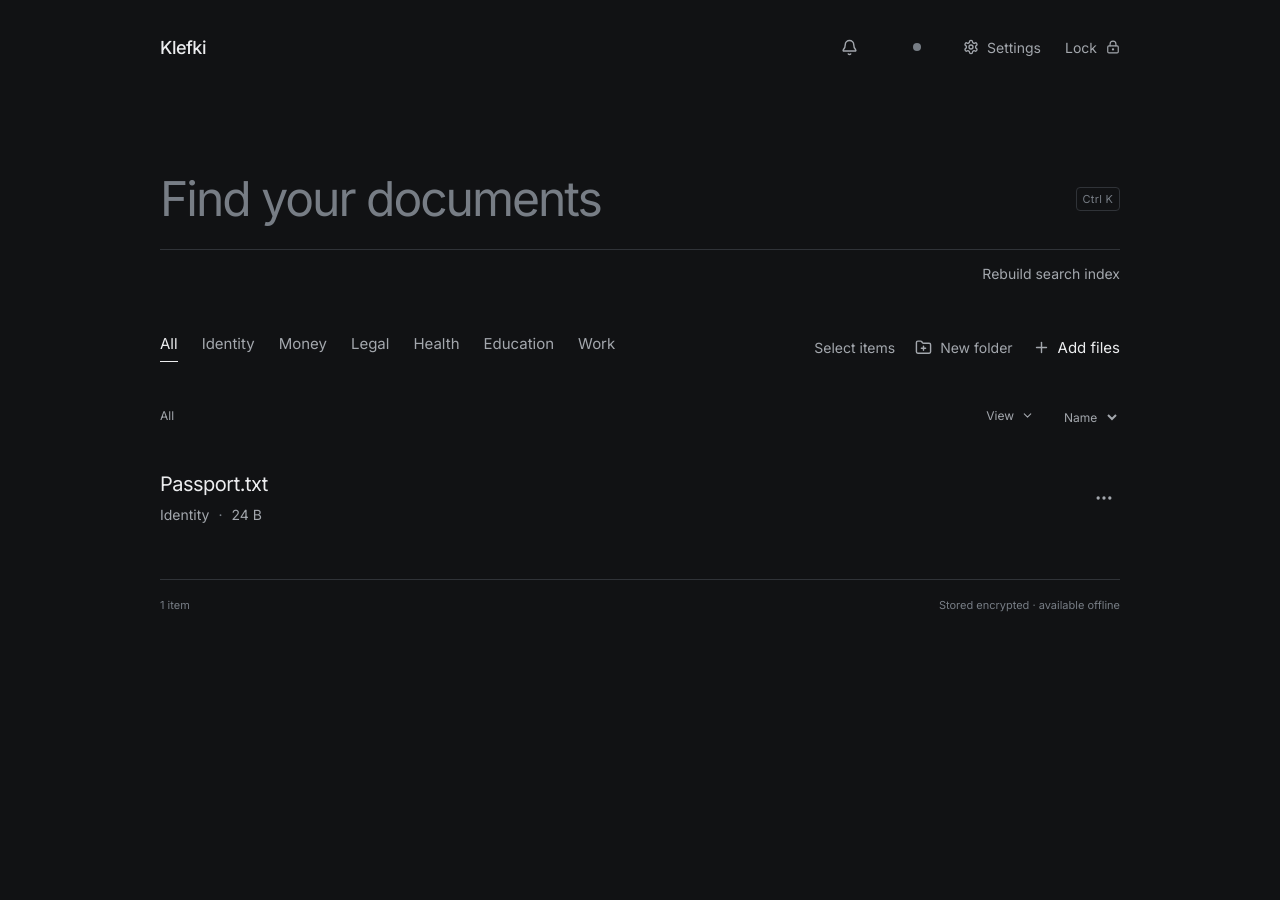
Test: library › opens accessible details with prefilled fields
Expected: the text "Passport.txt" is shown, [160,469,268,499]
Click the button named "Actions for Passport.txt" at {"x": 1104, "y": 498}, box [1088,482,1120,514]
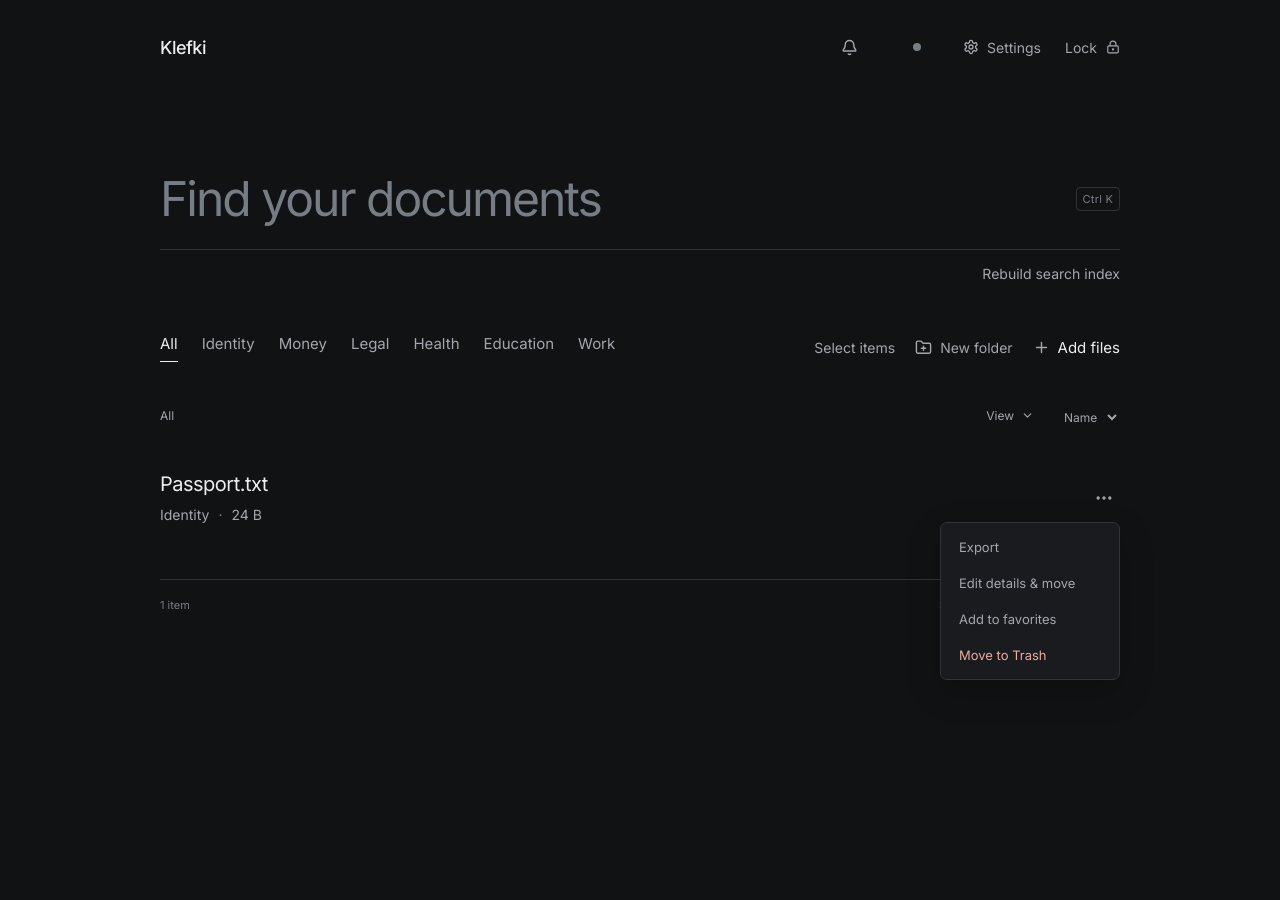
Click the menu item "Edit details & move" at {"x": 1017, "y": 583}, box [959,575,1075,591]
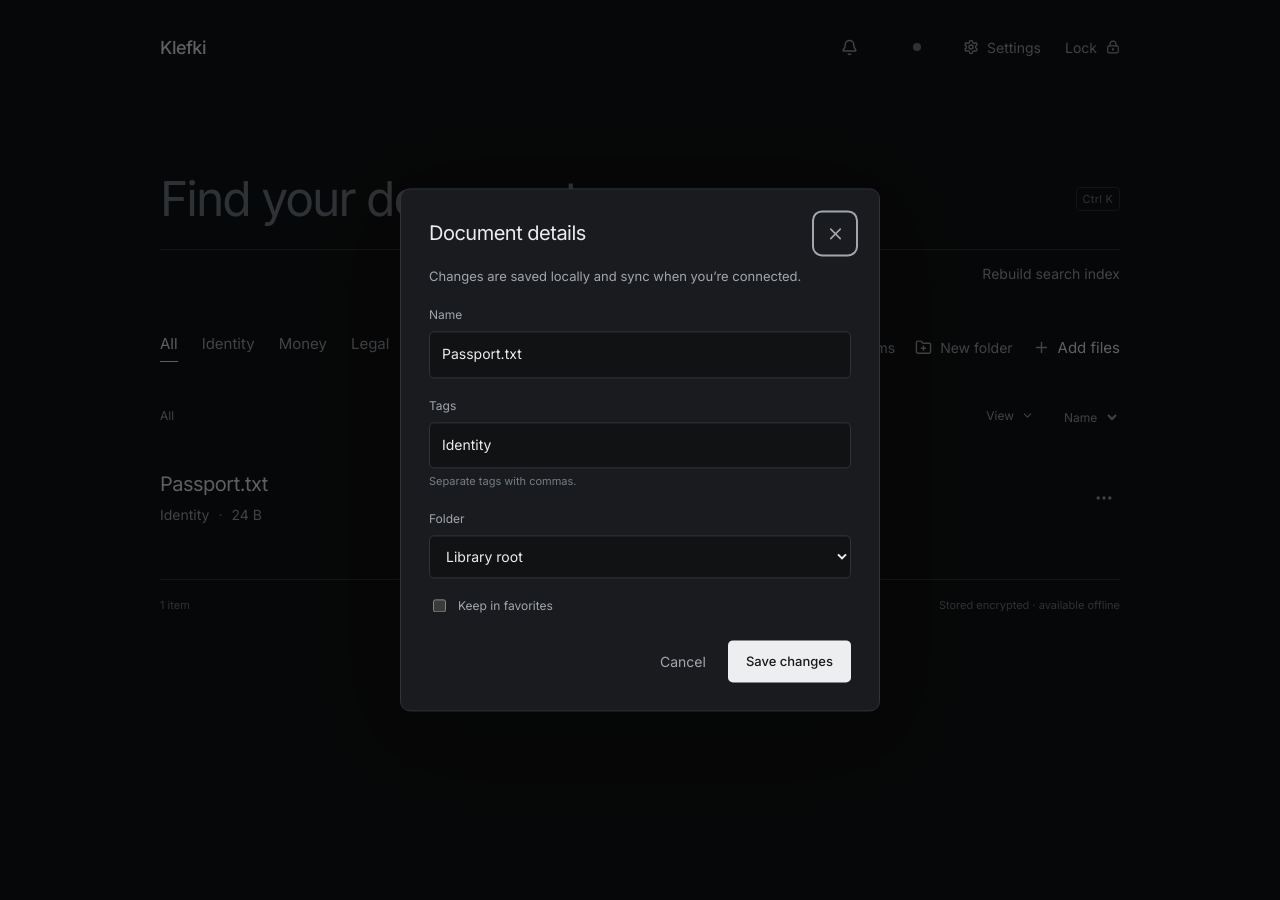
Now the field labelled "Name" holds "Passport.txt", box [429,332,851,378]
Press Escape
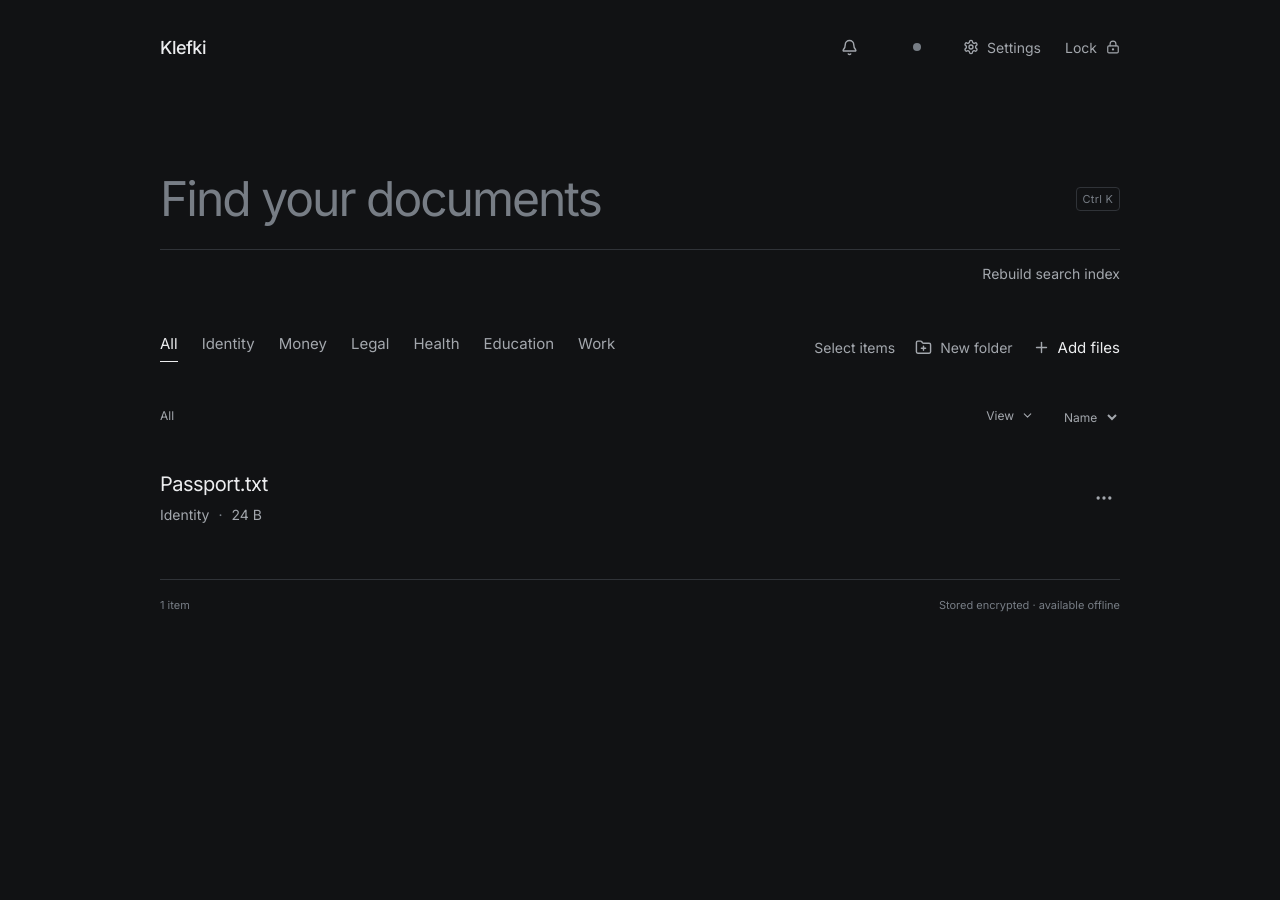
Now the dialog is gone
